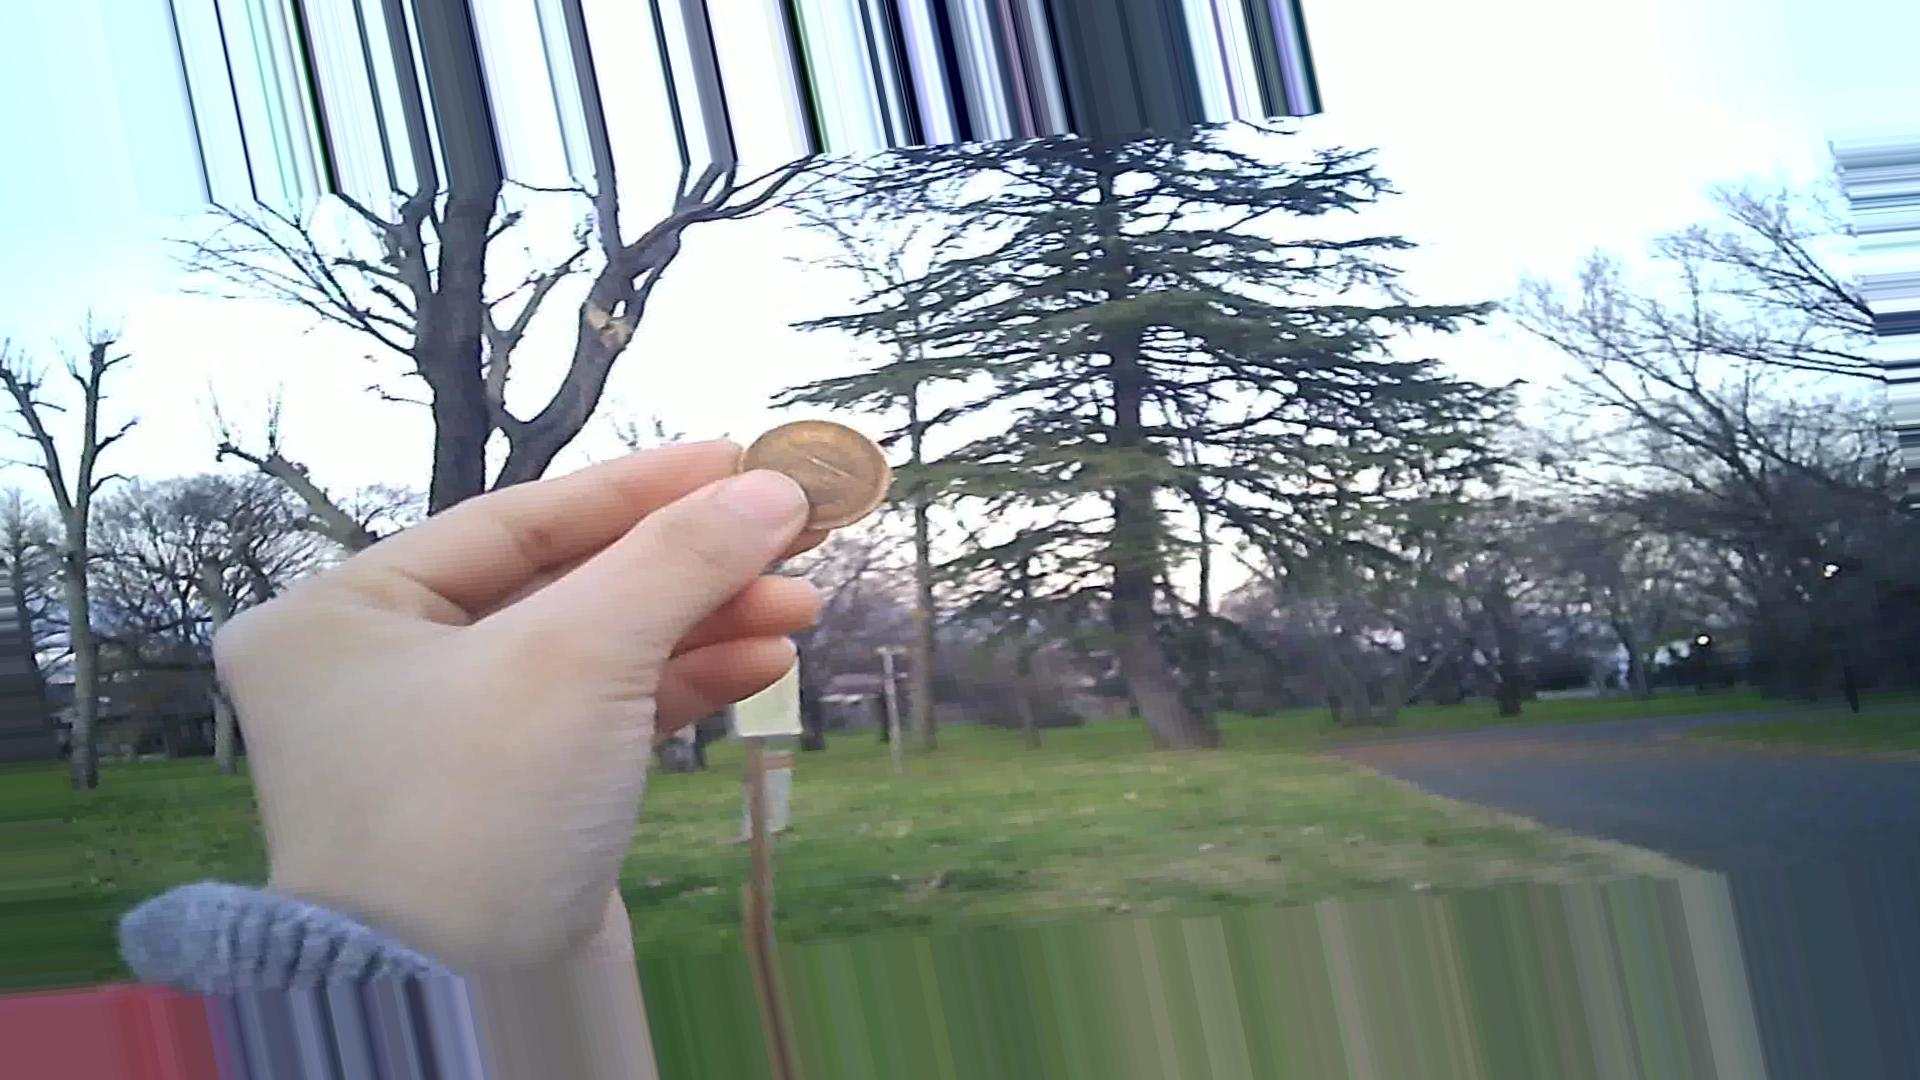10 Yen: (727, 413, 895, 531)
